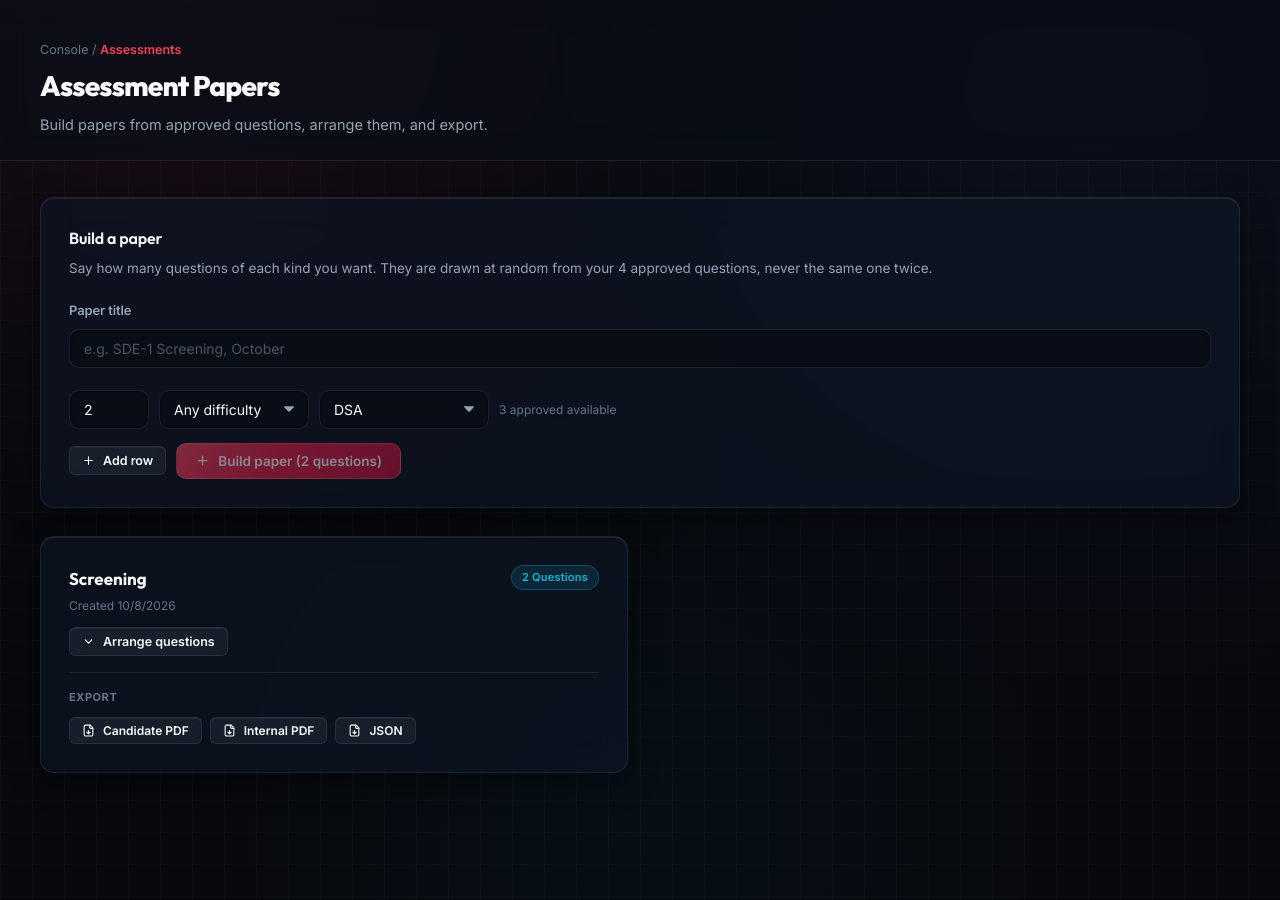
Scenario: PapersPage › shows why an export failed instead of failing silently
Click the button "JSON" at (375, 730), box x1=335 y1=717 x2=416 y2=744
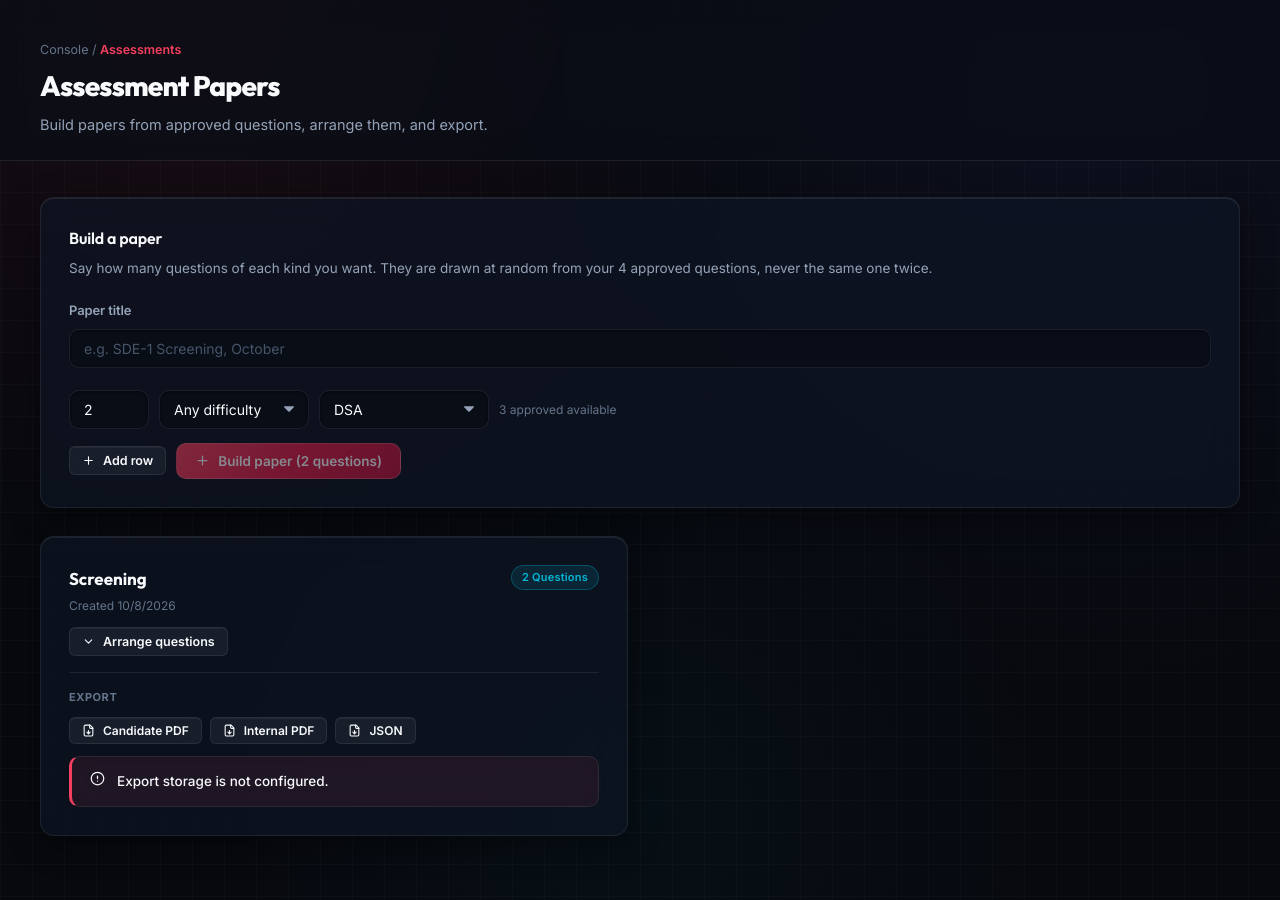
Expected: the text "Export storage is not configured." is shown, x1=117 y1=771 x2=329 y2=792
